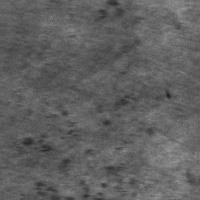rolled-in_scale: (32, 95, 139, 200), (21, 107, 83, 157)
